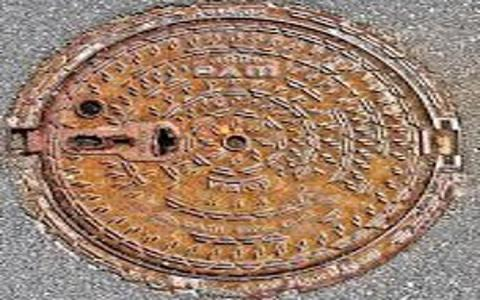proper manhole: (3, 6, 468, 293)
